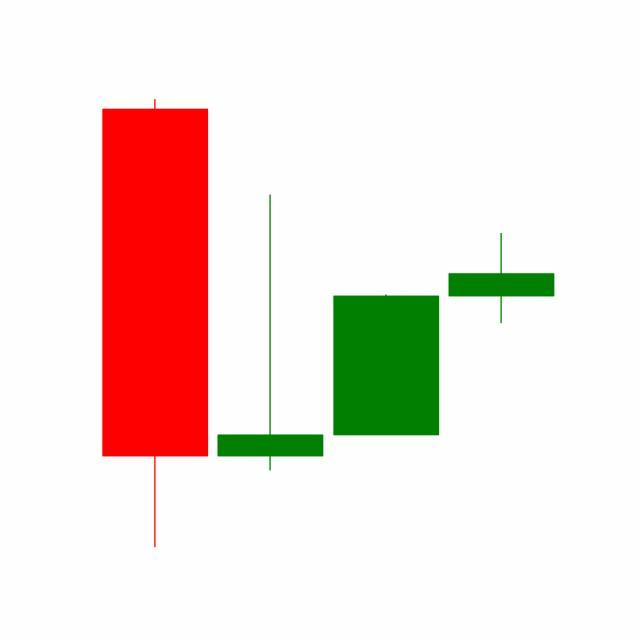Spinning Top: (444, 232, 560, 326)
